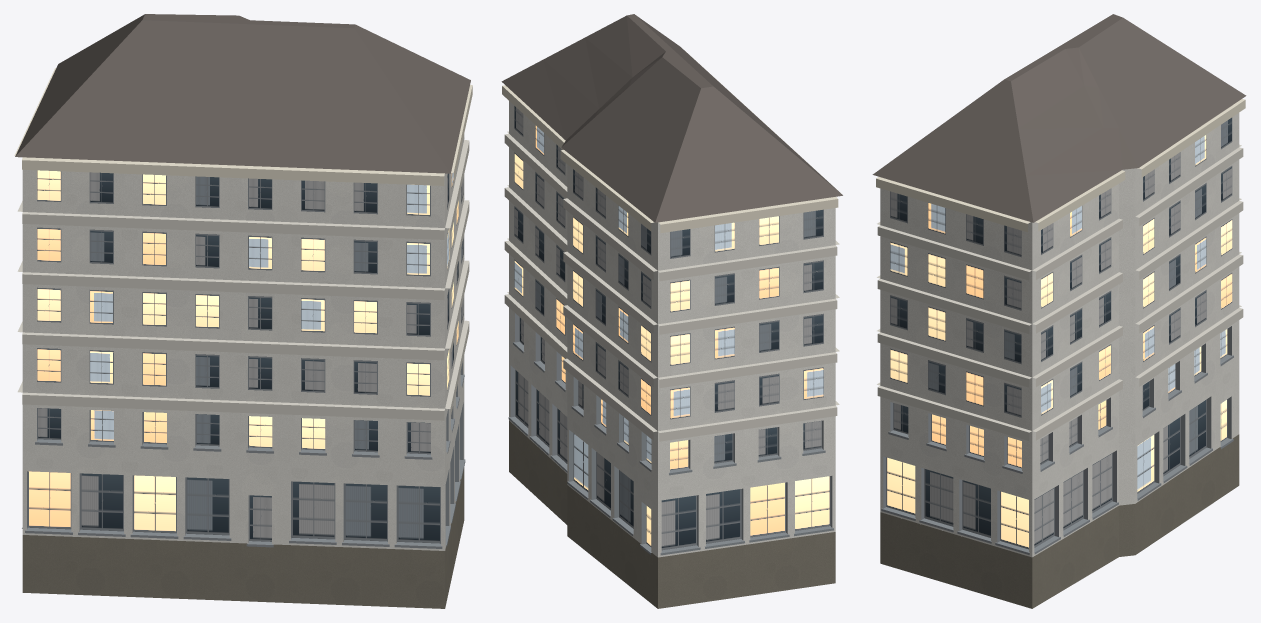
The picture shows the model from 3 angles, left to right: view 1: azimuth 30°, elevation 25°; view 2: azimuth 150°, elevation 25°; view 3: azimuth 270°, elevation 25°; orthographic projection. The views are drawn at different scales.
Parts seen in each view (by area): view 1: z3c_zy_s1; view 2: z3c_zy_s1; view 3: z3c_zy_s1.
Part boxes in pixels (box(x1,y1,x2,y2)): z3c_zy_s1: box(14, 14, 472, 608); z3c_zy_s1: box(501, 14, 842, 608); z3c_zy_s1: box(872, 14, 1246, 608).
Size of the model in its own units: 22.8 by 27.69 by 19.76.
Materials: 3 (3 with a texture image).
